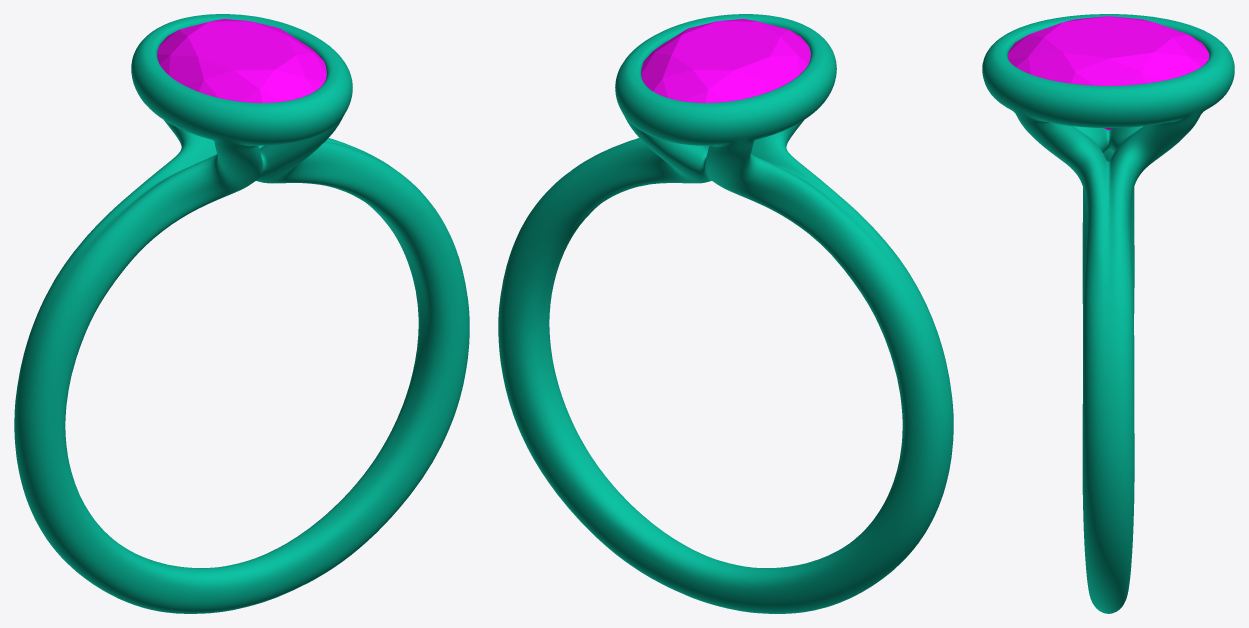
File: BE1543_OV_200ct_RENDER.glb
3 views of the same model, side by side, from view 1: azimuth 30°, elevation 25°; view 2: azimuth 150°, elevation 25°; view 3: azimuth 270°, elevation 25° (orthographic).
Visible parts, largest first — view 1: Metal 01, CS_Diamond_Oval; view 2: Metal 01, CS_Diamond_Oval; view 3: Metal 01, CS_Diamond_Oval.
Boxes of the visible parts, <box> form: Metal 01: <box>14,14,469,613</box>; CS_Diamond_Oval: <box>157,18,326,102</box>; Metal 01: <box>498,14,953,613</box>; CS_Diamond_Oval: <box>641,18,810,102</box>; Metal 01: <box>982,14,1234,613</box>; CS_Diamond_Oval: <box>1008,16,1209,130</box>.
Bounding box in the file's own units: 21.26 × 25.46 × 10.56.
